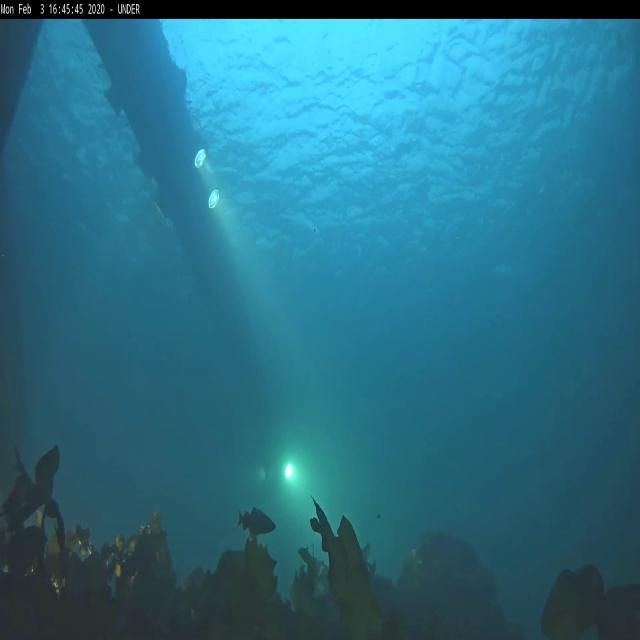fish: (237, 507, 277, 538)
